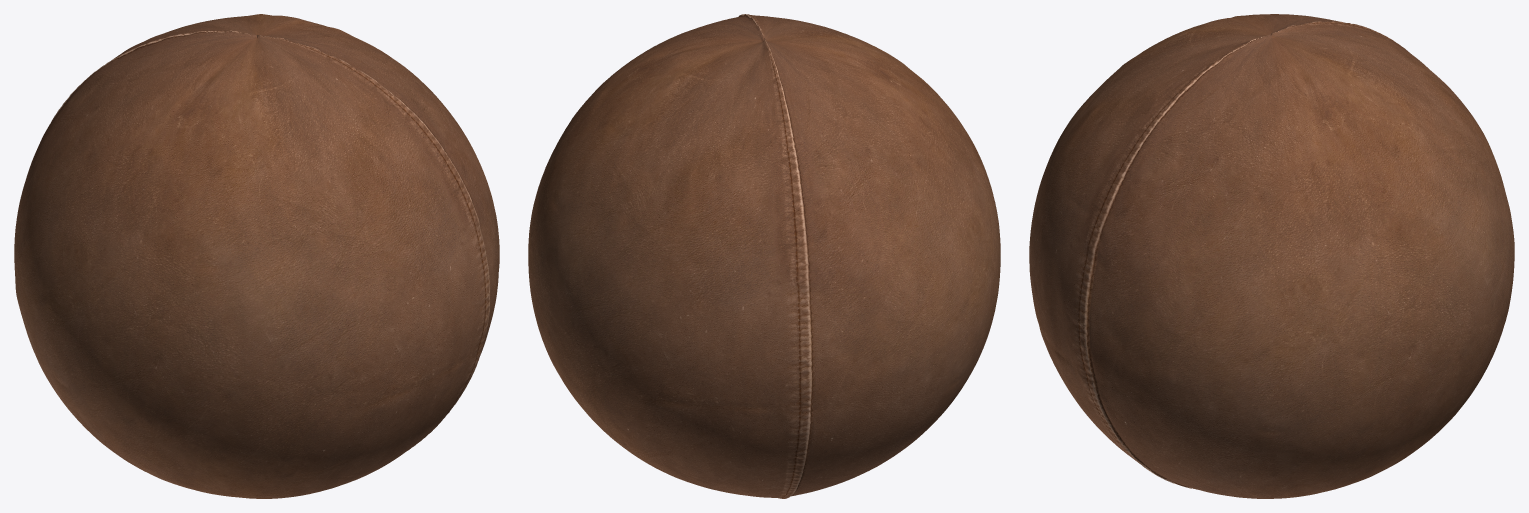
Rendered from fabric_leather_01_2k.gltf.
The picture shows the model from 3 angles, left to right: view 1: azimuth 30°, elevation 25°; view 2: azimuth 150°, elevation 25°; view 3: azimuth 270°, elevation 25°; orthographic projection.
Parts seen in each view (by area): view 1: sphere_gltf; view 2: sphere_gltf; view 3: sphere_gltf.
Part boxes in pixels (x1,y1,x2,y2): sphere_gltf: [14, 14, 499, 498]; sphere_gltf: [528, 14, 1000, 498]; sphere_gltf: [1029, 14, 1514, 498].
Bounding box in the file's own units: 0.3982 × 0.4052 × 0.399.
Materials: 1 (1 with a texture image).
